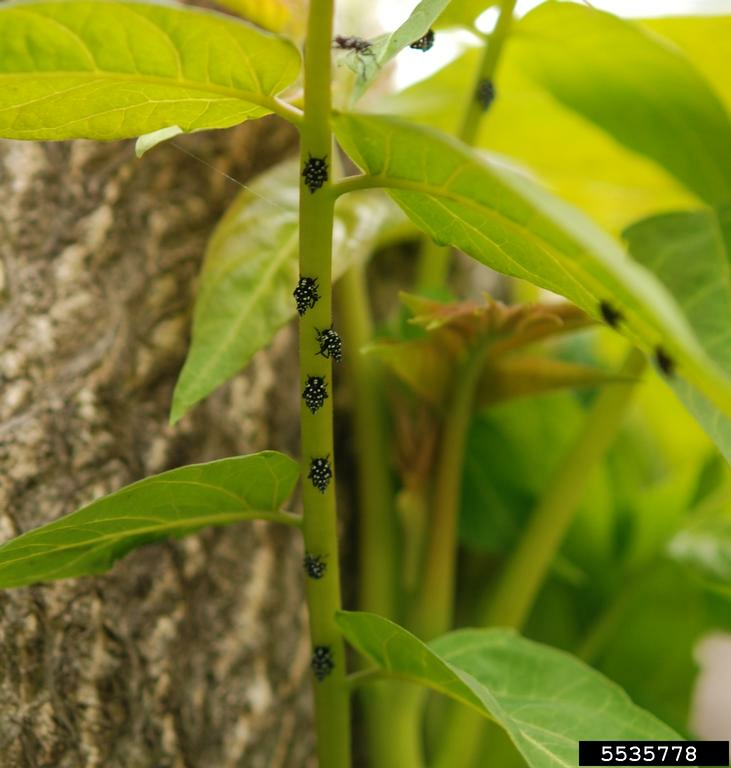instar nymph (1-3): (336, 30, 379, 74), (311, 324, 343, 365), (305, 454, 333, 491), (291, 271, 315, 314), (652, 342, 678, 380), (302, 376, 326, 417), (302, 154, 326, 193), (597, 298, 622, 329), (311, 643, 330, 679), (475, 79, 495, 112), (302, 550, 324, 575), (414, 28, 441, 48)
